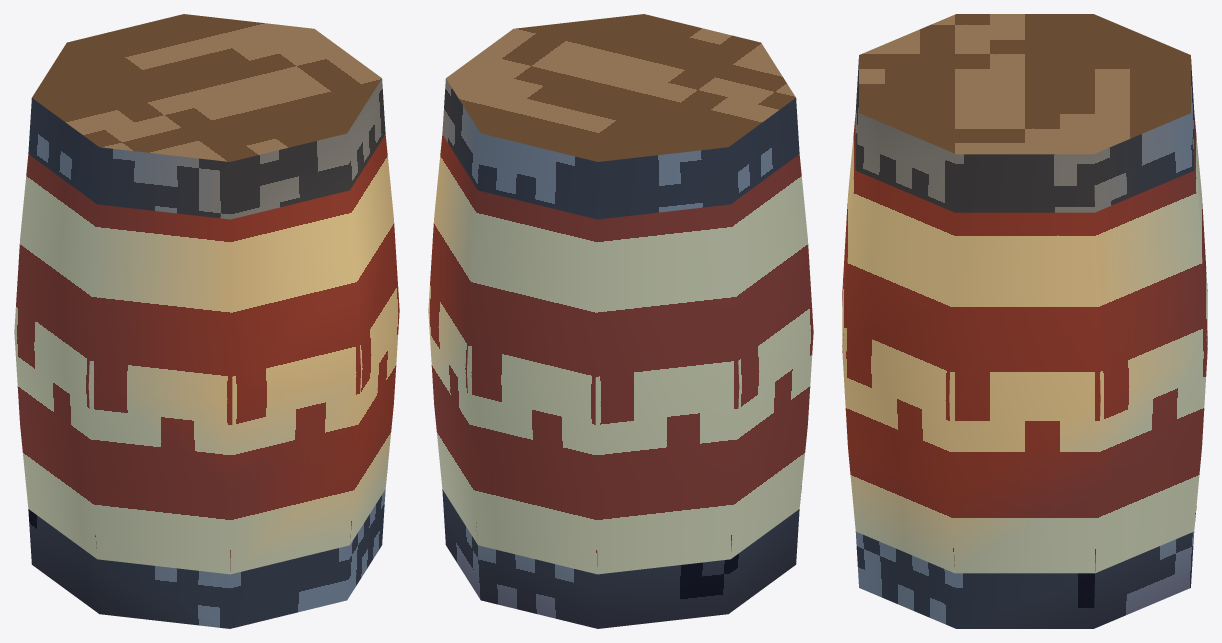
File: wprop.barrel__powder.glb
The picture shows the model from 3 angles, left to right: view 1: azimuth 30°, elevation 25°; view 2: azimuth 150°, elevation 25°; view 3: azimuth 270°, elevation 25°; orthographic projection.
Visible parts, largest first — view 1: kit_barrel; view 2: kit_barrel; view 3: kit_barrel.
Boxes of the visible parts, box(x1,y1,x2,y2) form: kit_barrel: box(14, 14, 399, 628); kit_barrel: box(428, 14, 813, 628); kit_barrel: box(842, 14, 1207, 628).
Size of the model in its own units: 0.4878 by 0.7 by 0.4878.
Materials: 3 (3 with a texture image).
